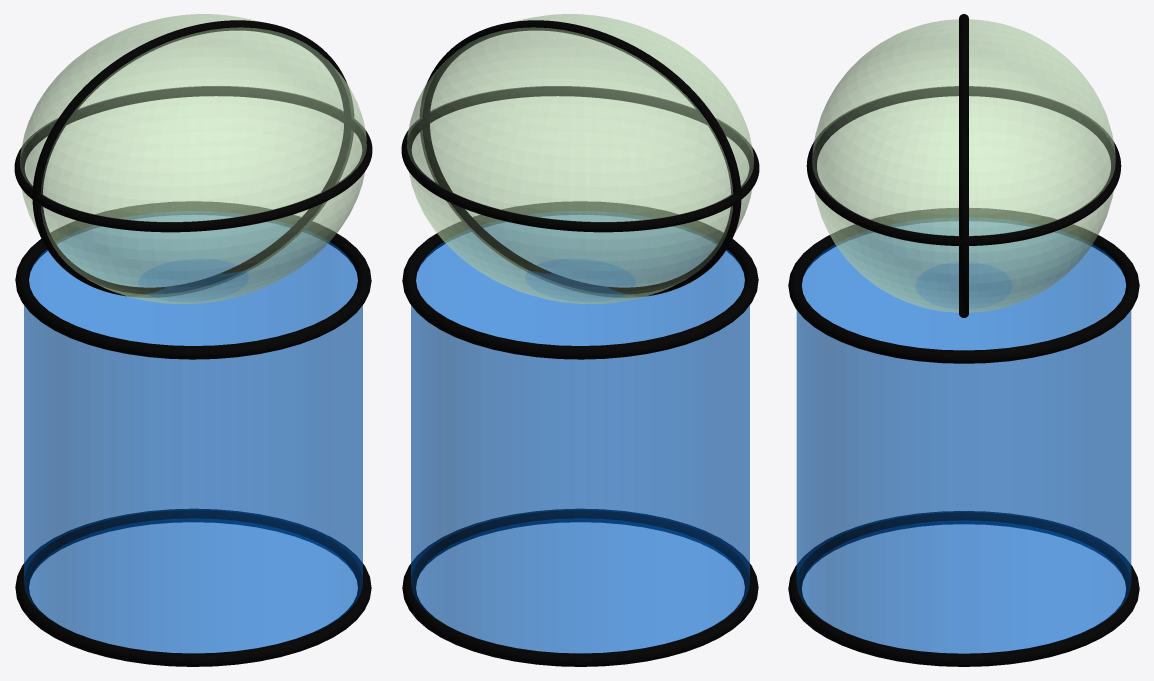
File: ovaloid on cylinder.fbx
3 views of the same model, side by side, from view 1: azimuth 30°, elevation 25°; view 2: azimuth 150°, elevation 25°; view 3: azimuth 270°, elevation 25° (orthographic).
Parts seen in each view (by area): view 1: ReferenceCylinder, ReferenceEllipsoid, BottomRing, TopRing, meridian_curve_obj, equator_curve_obj; view 2: ReferenceCylinder, ReferenceEllipsoid, BottomRing, TopRing, meridian_curve_obj, equator_curve_obj; view 3: ReferenceCylinder, ReferenceEllipsoid, BottomRing, TopRing, equator_curve_obj, meridian_curve_obj.
Part boxes in pixels (bbox=[...]): ReferenceCylinder: bbox=[24, 214, 362, 653]; ReferenceEllipsoid: bbox=[20, 14, 366, 304]; BottomRing: bbox=[15, 509, 371, 666]; TopRing: bbox=[15, 201, 371, 359]; meridian_curve_obj: bbox=[32, 20, 353, 297]; equator_curve_obj: bbox=[14, 86, 372, 232]; ReferenceCylinder: bbox=[411, 214, 749, 653]; ReferenceEllipsoid: bbox=[407, 14, 753, 304]; BottomRing: bbox=[402, 509, 758, 666]; TopRing: bbox=[402, 201, 758, 359]; meridian_curve_obj: bbox=[420, 20, 741, 297]; equator_curve_obj: bbox=[401, 86, 759, 232]; ReferenceCylinder: bbox=[796, 221, 1131, 653]; ReferenceEllipsoid: bbox=[812, 19, 1115, 312]; BottomRing: bbox=[788, 511, 1139, 666]; TopRing: bbox=[788, 208, 1139, 363]; equator_curve_obj: bbox=[806, 86, 1121, 245]; meridian_curve_obj: bbox=[959, 14, 968, 317].
Size of the model in its own units: 218 by 369 by 210.
